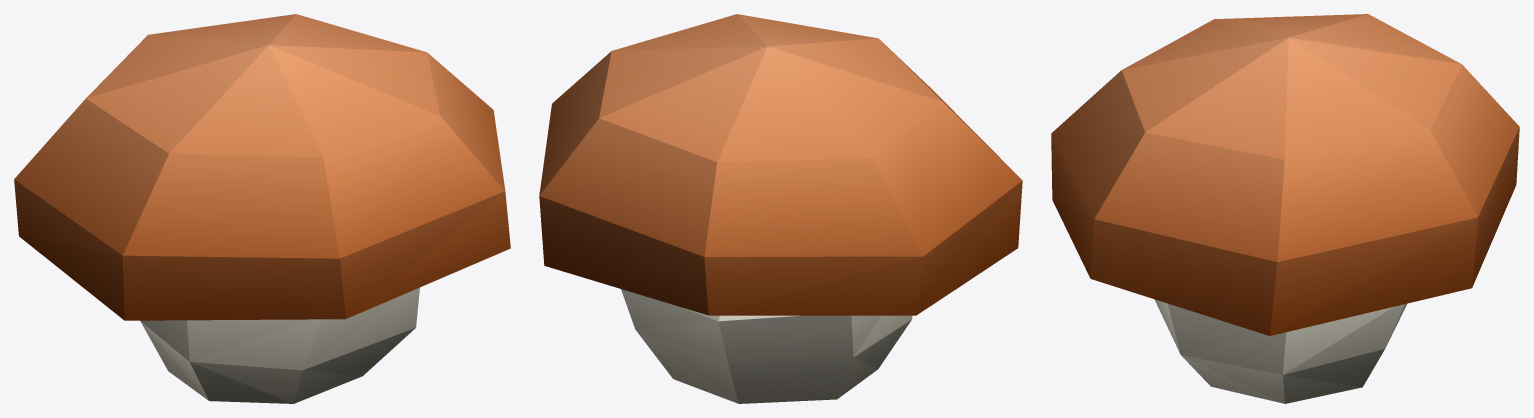
Rendered from MushroomThick-03.FBX.
3 views of the same model, side by side, from view 1: azimuth 30°, elevation 25°; view 2: azimuth 150°, elevation 25°; view 3: azimuth 270°, elevation 25° (orthographic).
Visible parts, largest first — view 1: MushroomThick-03; view 2: MushroomThick-03; view 3: MushroomThick-03.
Boxes of the visible parts, x1,y1,x2,y2 form: MushroomThick-03: (14,14,510,403); MushroomThick-03: (539,14,1022,403); MushroomThick-03: (1051,14,1519,403).
Size of the model in its own units: 42.24 by 30.03 by 39.6.
Materials: 1 (1 with a texture image).
